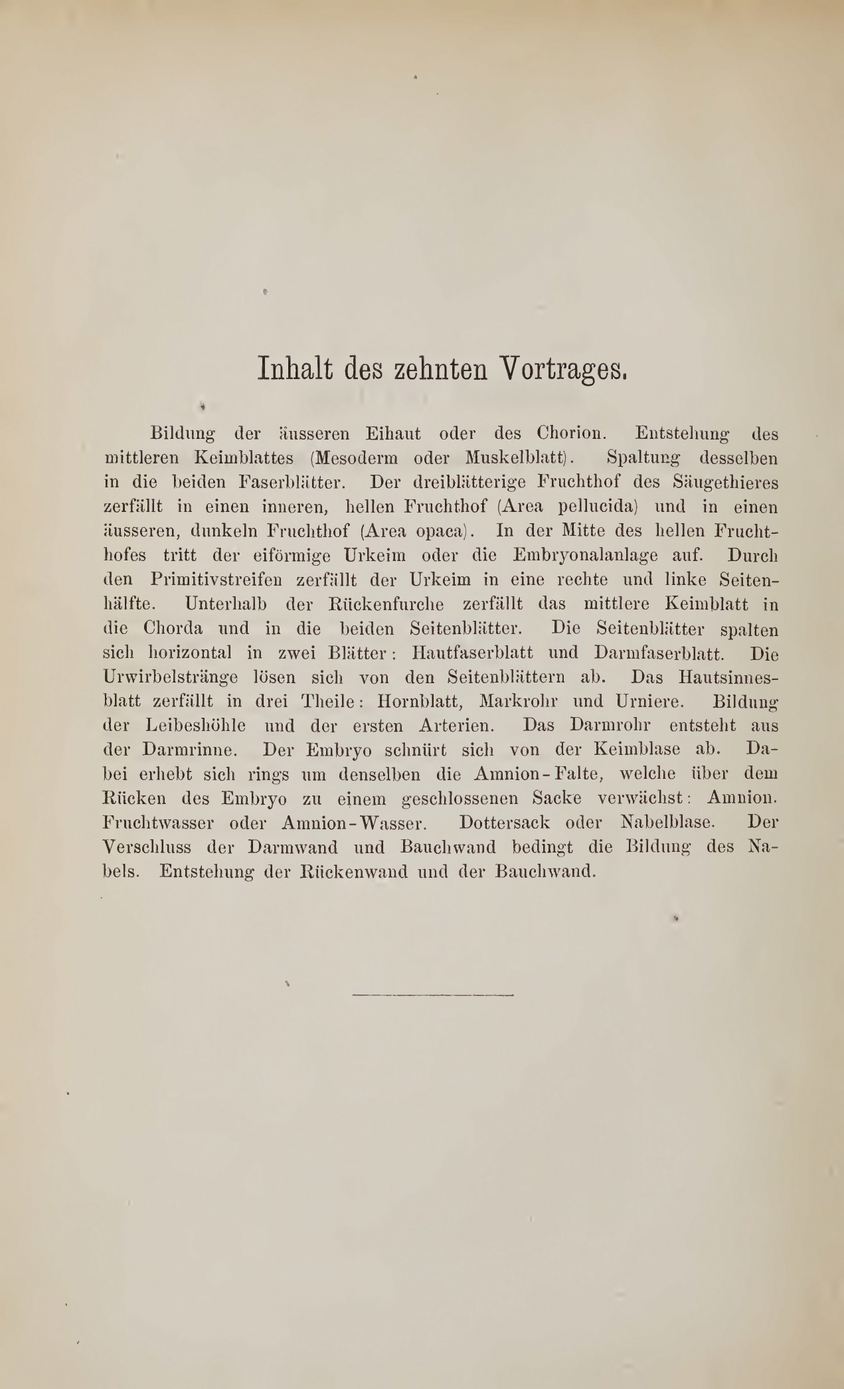Customzone_title: (251, 343, 645, 401)
MainZone: (84, 401, 805, 904)
